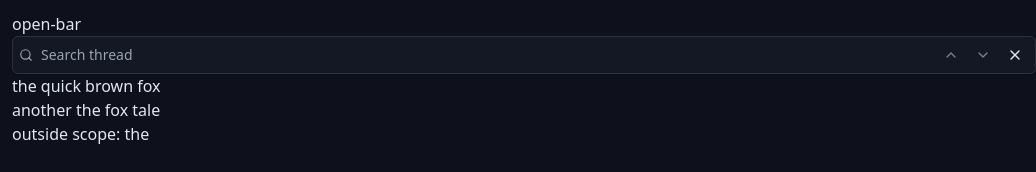
Test: ThreadSearch UI › Previous / Next click handlers cycle when there are matches
Type "fox" into the field with placeholder "Search thread".
click(479, 55); type("fox")  # box [37, 45, 921, 65]
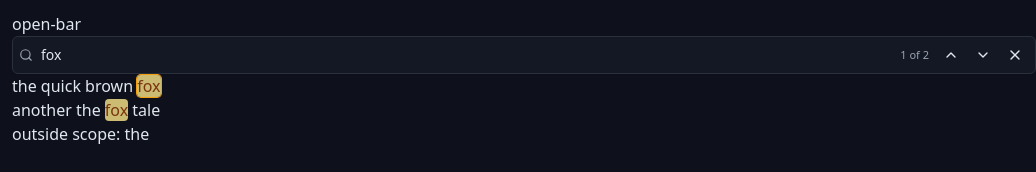
Click the button named "Next match".
click(983, 55)  # box [969, 41, 997, 69]
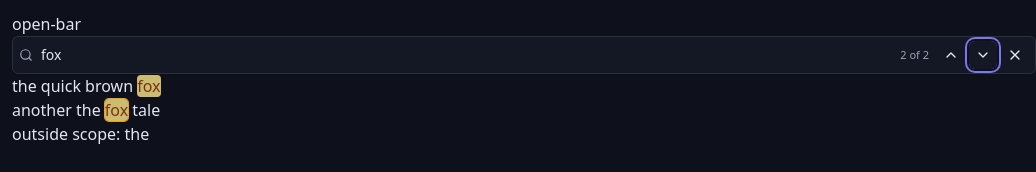
Check: the text "2 of 2" is shown, box [900, 47, 929, 62]
Click the button named "Previous match".
click(951, 55)  # box [937, 41, 965, 69]
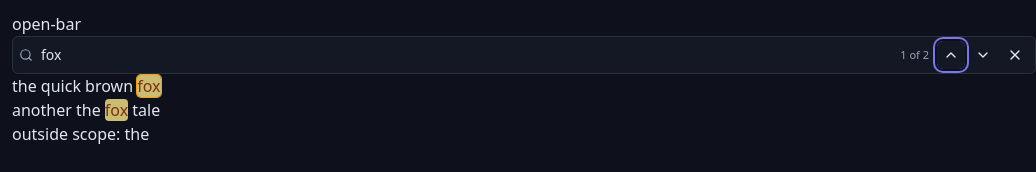
Check: the text "1 of 2" is shown, box [900, 47, 929, 62]
